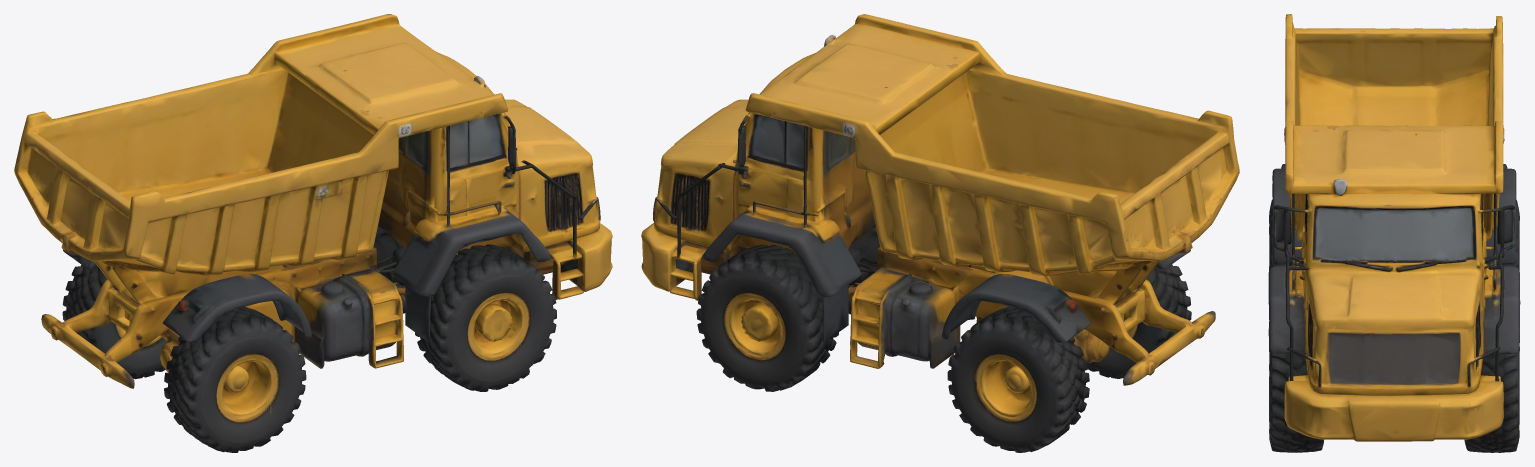
File: 068_dump_truck_yellow.glb
3 renders of one model, left to right at view 1: azimuth 30°, elevation 25°; view 2: azimuth 150°, elevation 25°; view 3: azimuth 270°, elevation 25°, orthographic. The views are drawn at different scales.
Visible parts, largest first — view 1: geometry_0; view 2: geometry_0; view 3: geometry_0.
Boxes of the visible parts, x1,y1,x2,y2 form: geometry_0: (14, 14, 612, 452); geometry_0: (641, 14, 1239, 452); geometry_0: (1268, 14, 1520, 452).
Size of the model in its own units: 9 by 4.86 by 3.99.
1 material, 1 textured.
